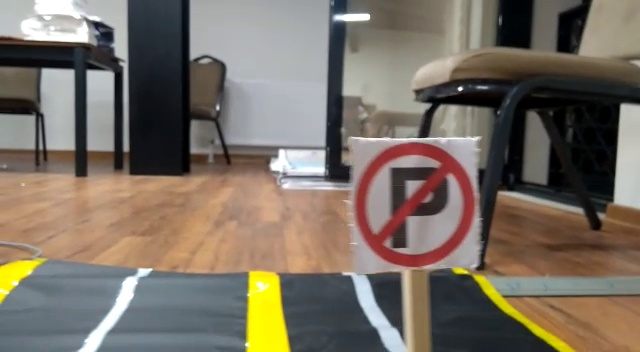park_yapilmaz: (354, 137, 476, 265)
